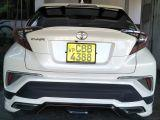car: (4, 3, 157, 117)
